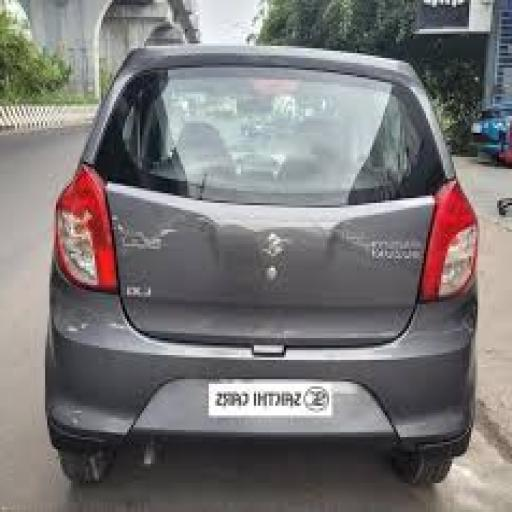License: (198, 381, 335, 421)
